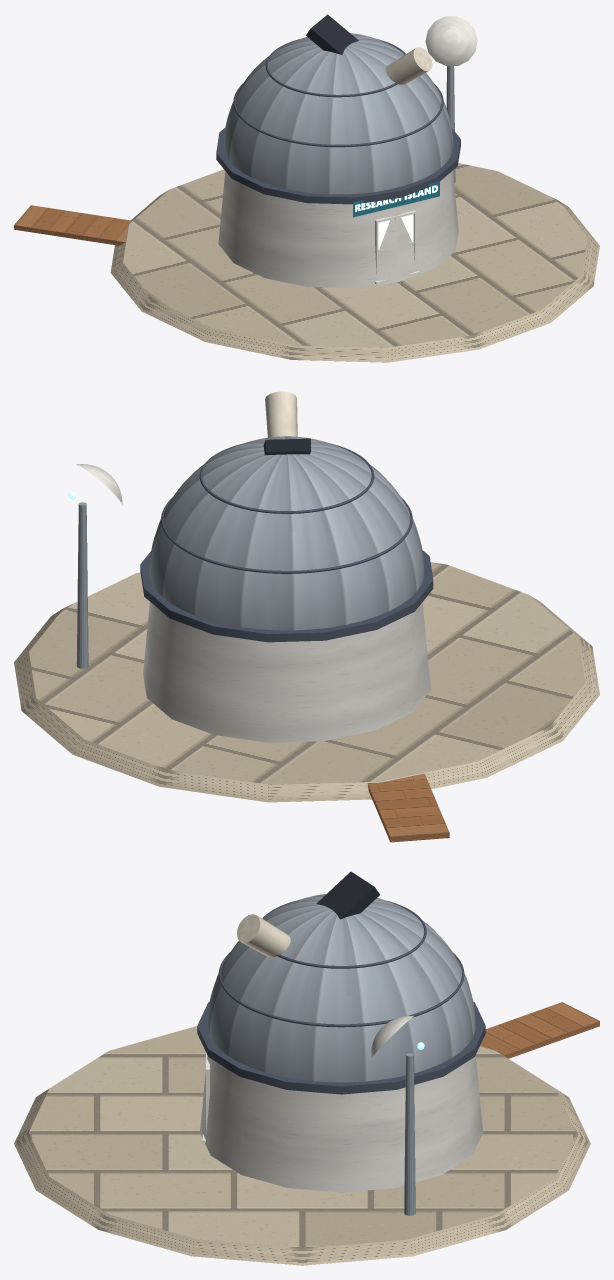
File: landmark-research.glb
3 views of the same model, one above another, from view 1: azimuth 30°, elevation 25°; view 2: azimuth 150°, elevation 25°; view 3: azimuth 270°, elevation 25° (orthographic). The views are drawn at different scales.
Visible parts, largest first — view 1: landmark-research, object 2; view 2: landmark-research; view 3: landmark-research, object 2.
Part boxes in pixels (x1,y1,x2,y2): landmark-research: [14, 14, 599, 362]; object 2: [425, 16, 477, 66]; landmark-research: [14, 391, 599, 842]; landmark-research: [14, 871, 599, 1265]; object 2: [371, 1016, 414, 1058].
Bounding box in the file's own units: 12.25 × 5.84 × 11.99.
Materials: 11 (6 with a texture image).
